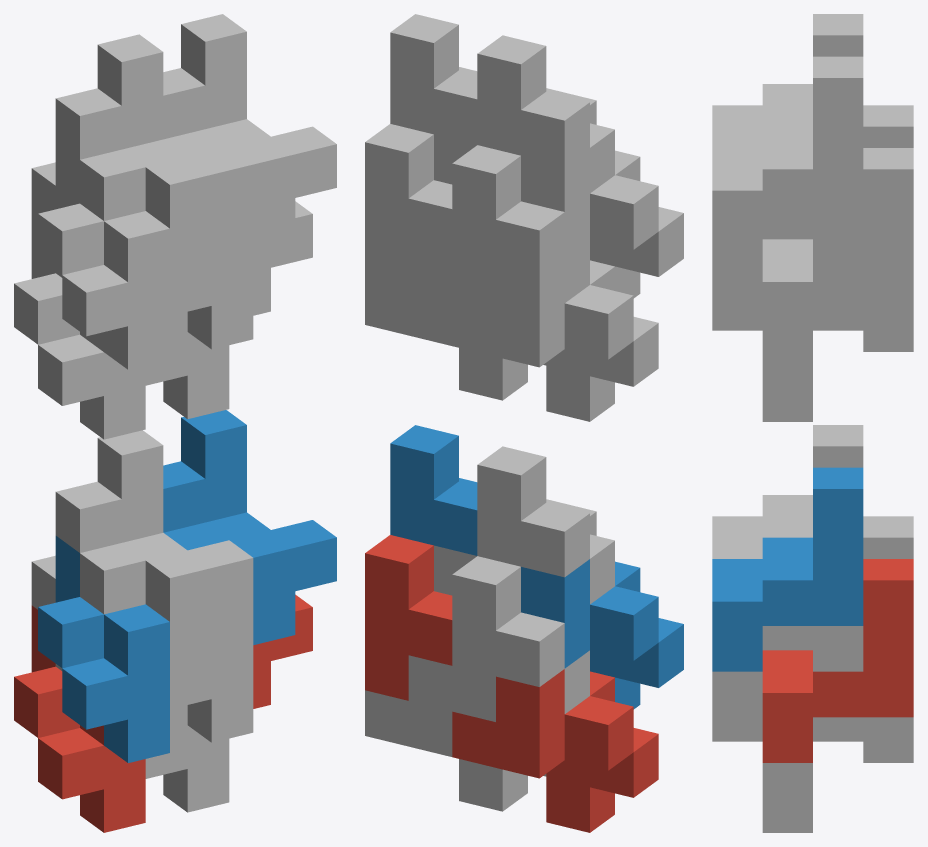
Rendered from tiling.obj.
The picture shows the model from 3 angles, left to right: view 1: azimuth 30°, elevation 25°; view 2: azimuth 150°, elevation 25°; view 3: azimuth 270°, elevation 25°; orthographic projection. The views are drawn at different scales.
Parts seen in each view (by area): view 1: copy_2_domain_4, copy_2_domain_2, copy_2_domain_8, copy_2_domain_6, copy_1_domain_4, copy_1_domain_2, copy_1_domain_1, copy_1_domain_3, copy_1_domain_8, copy_1_domain_6, copy_1_domain_5, copy_1_domain_7 (+4 smaller); view 2: copy_1_domain_1, copy_1_domain_3, copy_2_domain_1, copy_2_domain_3, copy_1_domain_2, copy_1_domain_4, copy_2_domain_2, copy_2_domain_4, copy_2_domain_5, copy_2_domain_7, copy_2_domain_6, copy_2_domain_8 (+4 smaller); view 3: copy_2_domain_6, copy_2_domain_8, copy_2_domain_5, copy_2_domain_7, copy_1_domain_6, copy_1_domain_8, copy_1_domain_5, copy_1_domain_7, copy_2_domain_2, copy_2_domain_4, copy_2_domain_1, copy_2_domain_3.
Part boxes in pixels (box(x1,y1,x2,y2)): copy_2_domain_4: box(55, 34, 253, 272); copy_2_domain_2: box(55, 430, 253, 665); copy_2_domain_8: box(163, 14, 336, 251); copy_2_domain_6: box(163, 410, 336, 645); copy_1_domain_4: box(38, 142, 169, 369); copy_1_domain_2: box(38, 536, 169, 762); copy_1_domain_1: box(14, 605, 145, 832); copy_1_domain_3: box(14, 212, 145, 439); copy_1_domain_8: box(170, 208, 253, 349); copy_1_domain_6: box(170, 601, 253, 742); copy_1_domain_5: box(145, 725, 229, 812); copy_1_domain_7: box(145, 332, 229, 419); copy_1_domain_1: box(452, 669, 658, 832); copy_1_domain_3: box(452, 258, 658, 421); copy_2_domain_1: box(452, 556, 589, 721); copy_2_domain_3: box(452, 145, 589, 310); copy_1_domain_2: box(521, 559, 683, 709); copy_1_domain_4: box(521, 148, 683, 298); copy_2_domain_2: box(477, 446, 614, 604); copy_2_domain_4: box(477, 35, 614, 193); copy_2_domain_5: box(365, 535, 452, 700); copy_2_domain_7: box(365, 124, 452, 289); copy_2_domain_6: box(390, 425, 477, 555); copy_2_domain_8: box(390, 14, 477, 144); copy_2_domain_6: box(712, 467, 863, 671); copy_2_domain_8: box(712, 56, 863, 260); copy_2_domain_5: box(762, 559, 913, 762); copy_2_domain_7: box(762, 148, 913, 351); copy_1_domain_6: box(712, 626, 863, 741); copy_1_domain_8: box(712, 215, 863, 330); copy_1_domain_5: box(762, 717, 913, 832); copy_1_domain_7: box(762, 306, 913, 421); copy_2_domain_2: box(712, 425, 863, 558); copy_2_domain_4: box(712, 14, 863, 147); copy_2_domain_1: box(863, 516, 913, 558); copy_2_domain_3: box(863, 105, 913, 147).
Bounding box in the file's own units: 6 × 17 × 4.
